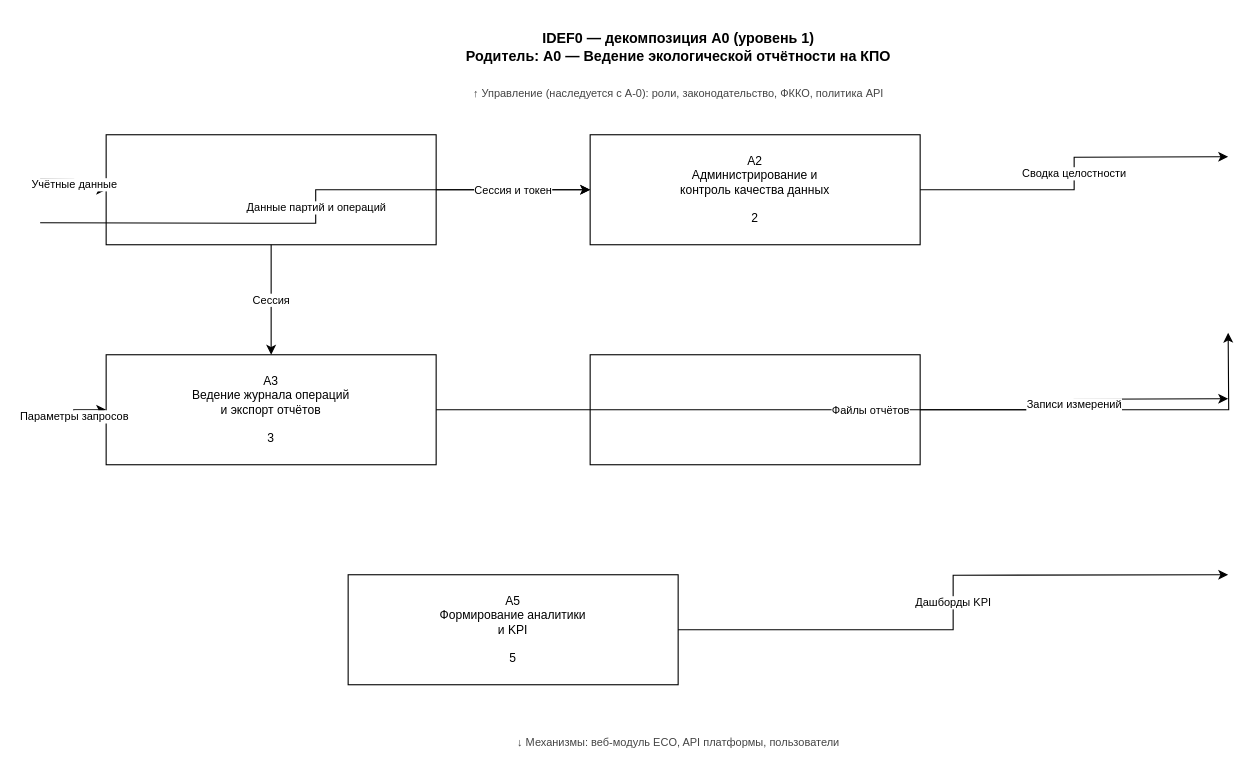
Image size: 1256x780. Some labels were removed from this diagram. The centre of each missing label's shape, as x and y in pixels:
"A1 Аутентификация и разграничение доступа 1" goes at point 270,189.
"A4 Учёт экологических измерений 4" goes at point 754,409.
